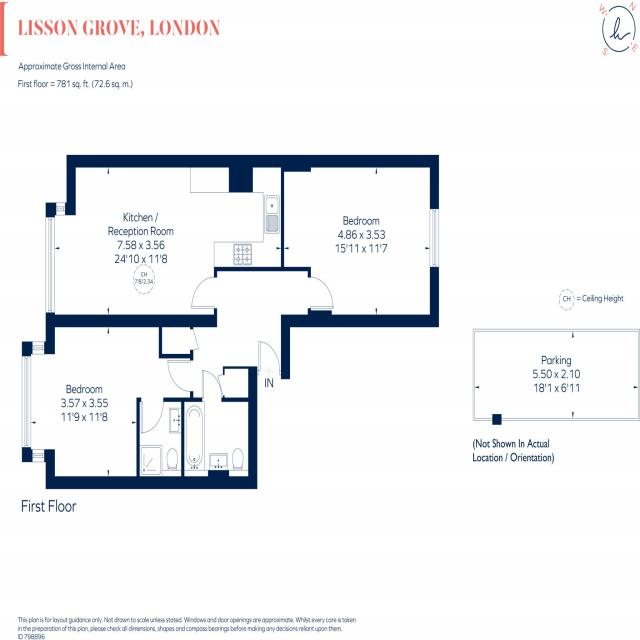DOOR: (165, 358, 194, 394), (140, 397, 167, 435), (257, 337, 282, 376), (308, 275, 335, 310), (190, 276, 217, 310), (202, 369, 223, 398)
ROOM: (45, 155, 284, 328), (22, 314, 193, 489), (281, 154, 439, 327)
WINDOW: (45, 216, 56, 315), (21, 354, 32, 448), (429, 207, 441, 269), (32, 449, 45, 463), (32, 341, 45, 355), (56, 202, 66, 216)
